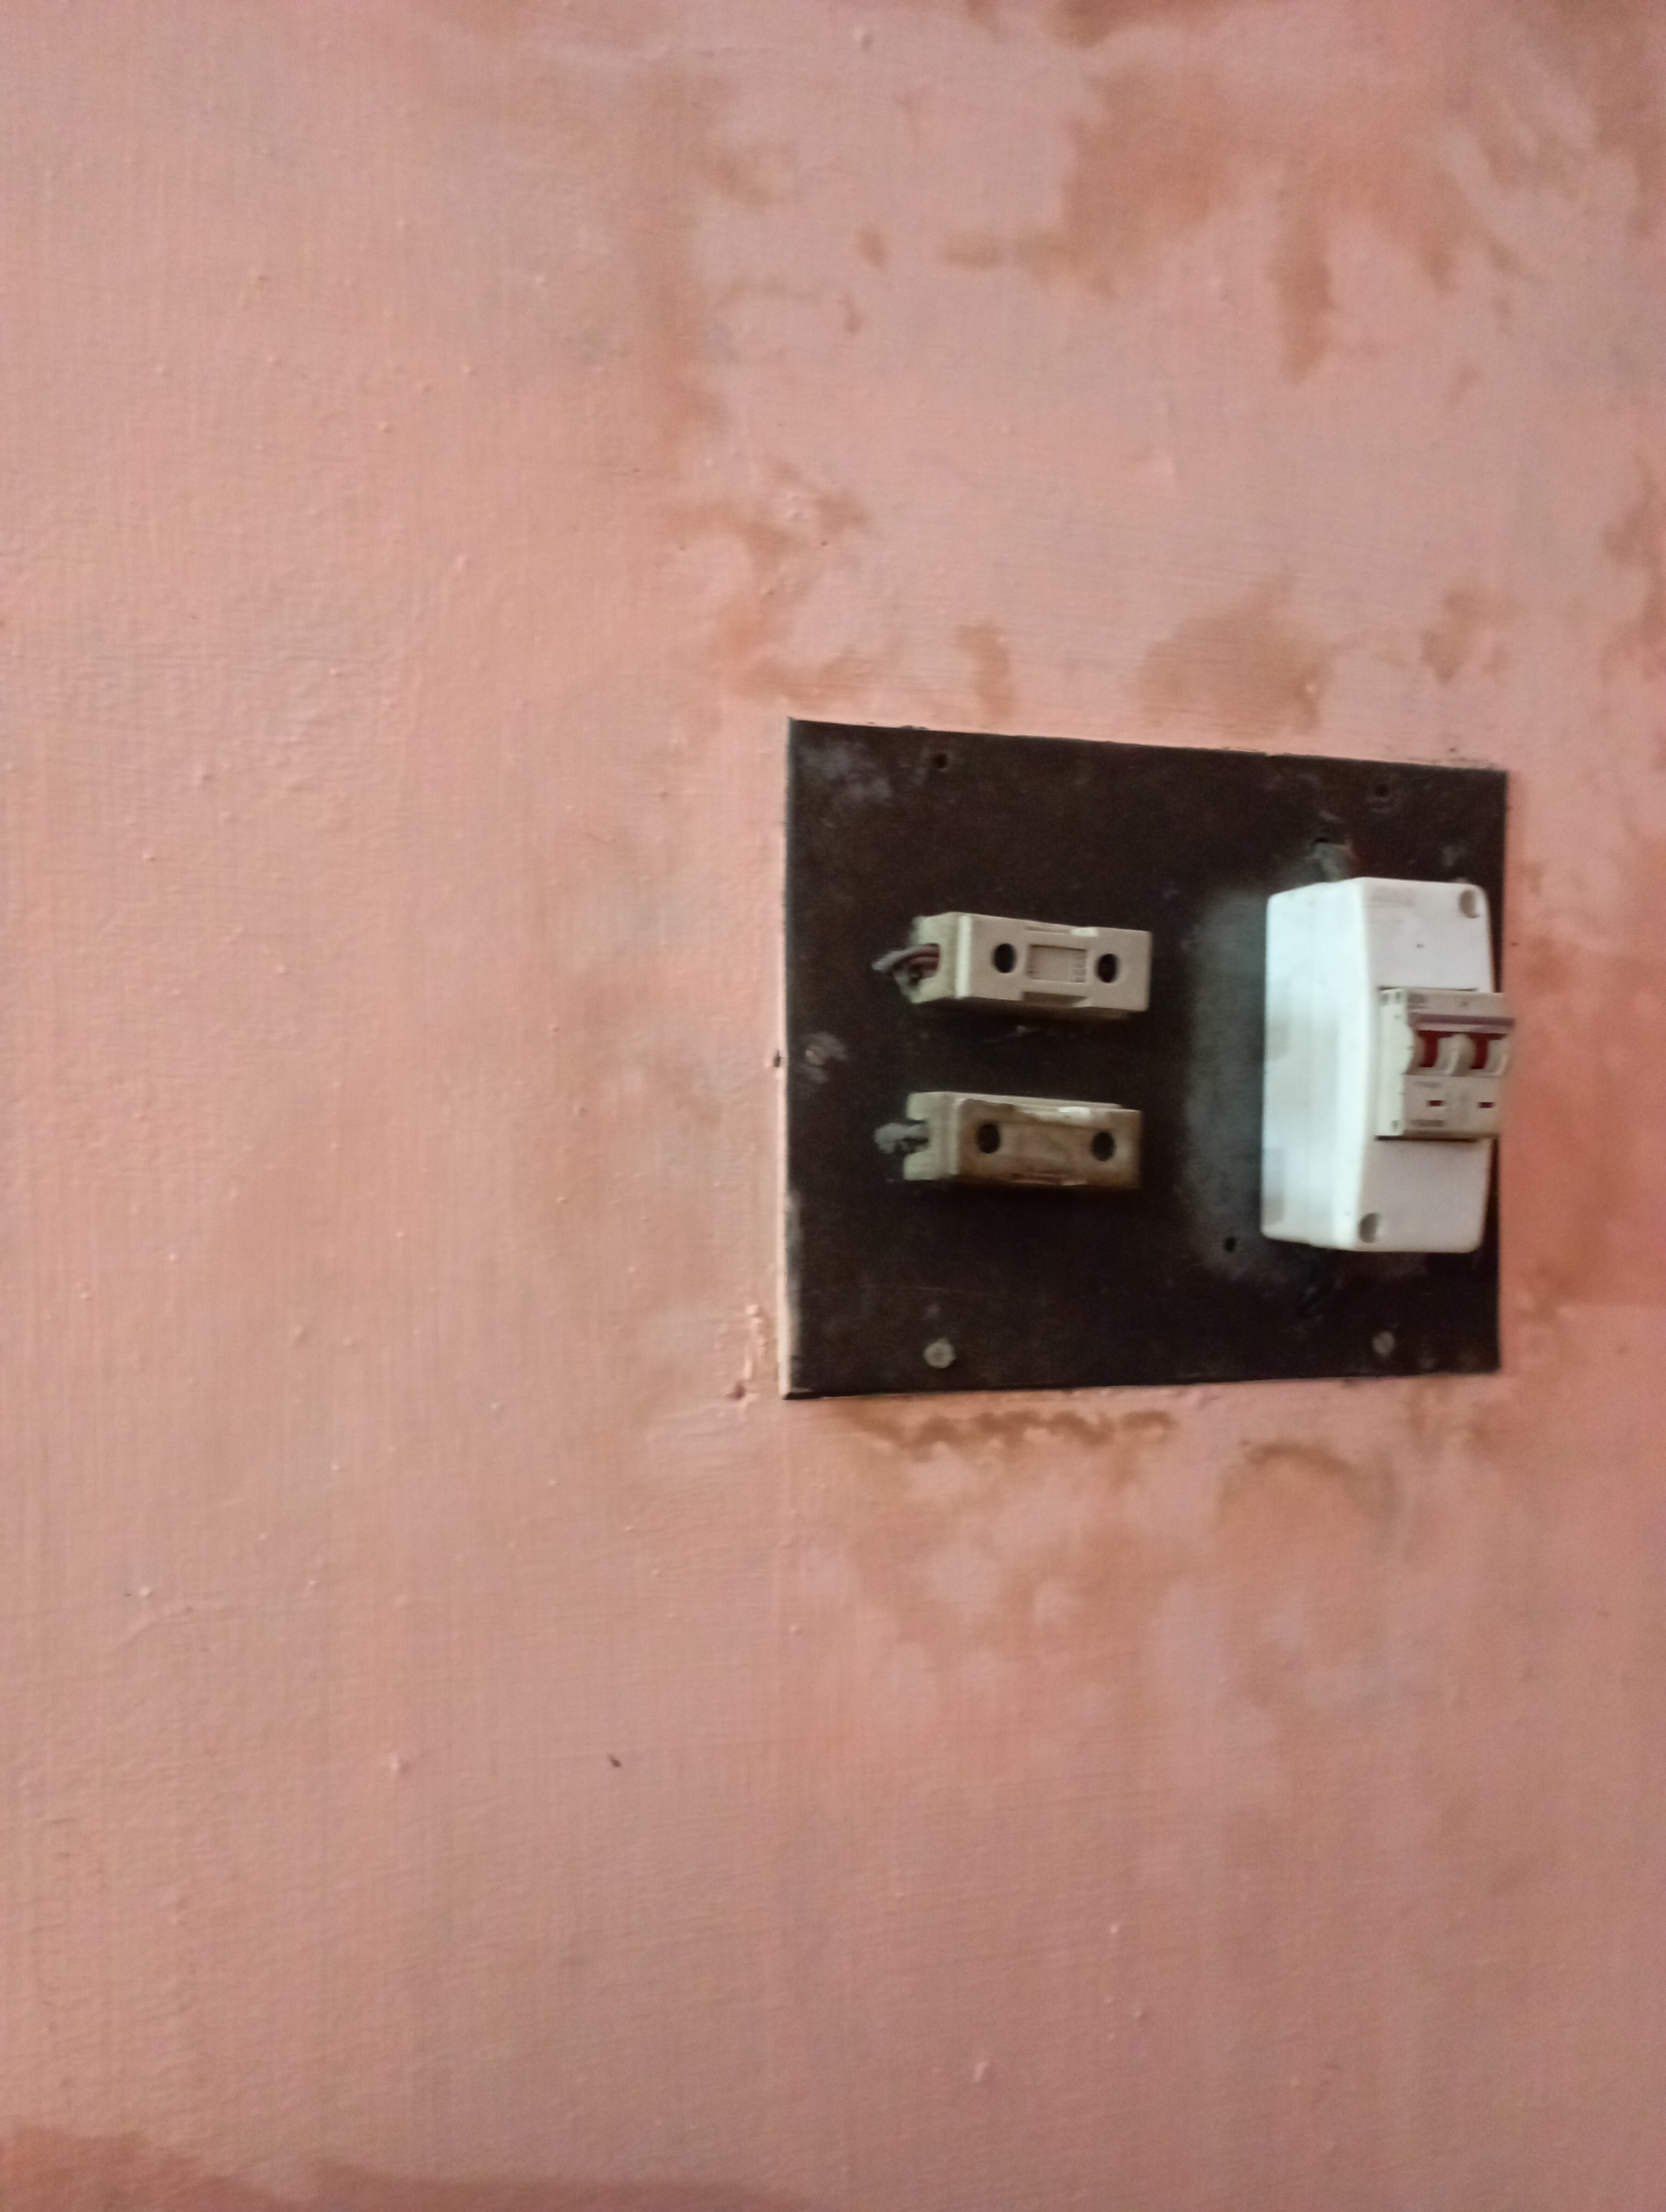ciruit_breaker: (1260, 881, 1503, 1290)
fuse: (886, 908, 1159, 1044), (891, 1088, 1155, 1215)
